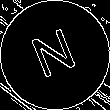N_S: (27, 24, 83, 86)
